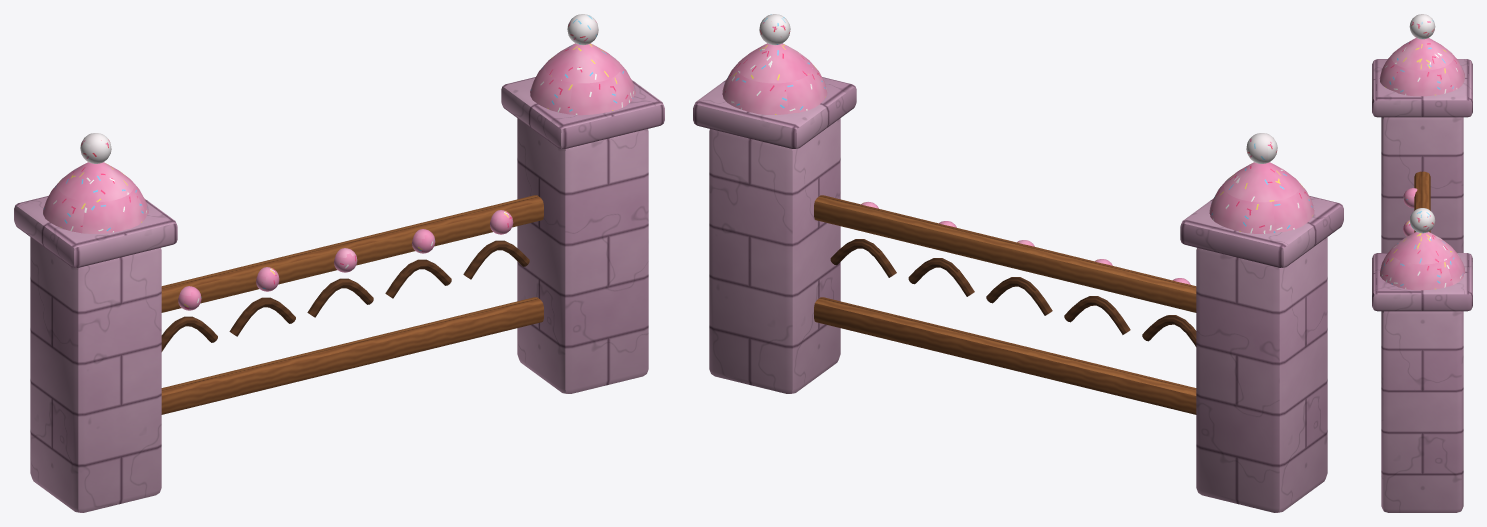
The model's file is GIN_PillarFence.fbx.
3 renders of one model, left to right at view 1: azimuth 30°, elevation 25°; view 2: azimuth 150°, elevation 25°; view 3: azimuth 270°, elevation 25°, orthographic. The views are drawn at different scales.
Visible parts, largest first — view 1: GIN_PillarFence; view 2: GIN_PillarFence; view 3: GIN_PillarFence.
Part boxes in pixels (bbox=[...]): GIN_PillarFence: bbox=[14, 14, 664, 512]; GIN_PillarFence: bbox=[693, 14, 1343, 512]; GIN_PillarFence: bbox=[1372, 14, 1472, 512].
Bounding box in the file's own units: 3.05 × 1.74 × 0.55.
